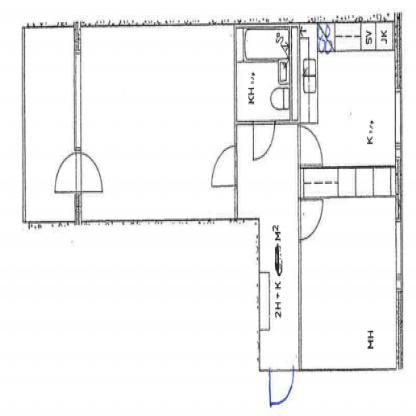bathroom: (234, 24, 292, 120)
door: (51, 150, 105, 196), (295, 196, 328, 245), (295, 121, 326, 170), (209, 142, 240, 188), (267, 367, 298, 410), (250, 118, 276, 164)
perimeter: (79, 26, 400, 369)
window: (72, 50, 84, 153), (392, 86, 405, 163), (393, 215, 404, 294)
